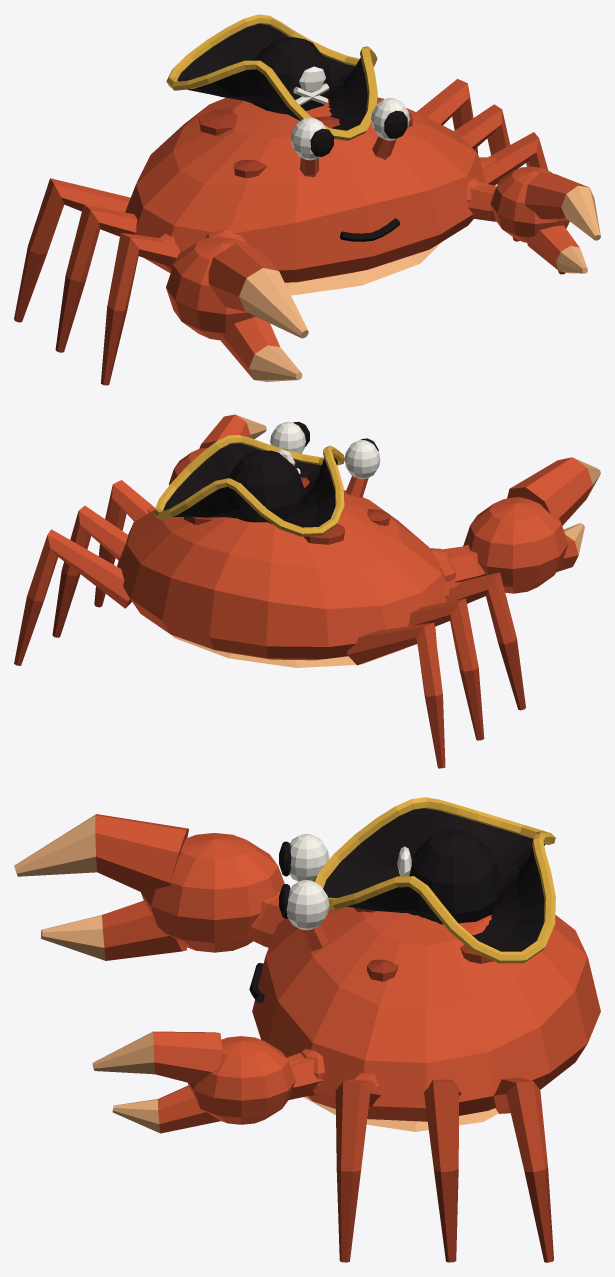
Rendered from captain_pinch.glb.
The picture shows the model from 3 angles, top to bottom: view 1: azimuth 30°, elevation 25°; view 2: azimuth 150°, elevation 25°; view 3: azimuth 270°, elevation 25°; orthographic projection. The views are drawn at different scales.
Visible parts, largest first — view 1: Body, Hat, ClawR, ClawL; view 2: Body, Hat, ClawR, ClawL; view 3: Body, Hat, ClawR, ClawL.
Part boxes in pixels (box(x1,y1,x2,y2)): Body: box(14, 79, 565, 385); Hat: box(166, 14, 377, 140); ClawR: box(166, 229, 308, 381); ClawL: box(466, 166, 600, 273); Body: box(14, 421, 525, 768); Hat: box(153, 435, 344, 536); ClawR: box(431, 457, 600, 593); ClawL: box(169, 414, 266, 485); Body: box(249, 834, 600, 1262); Hat: box(314, 797, 555, 963); ClawR: box(14, 814, 284, 960); ClawL: box(92, 1031, 324, 1133).
Bounding box in the file's own units: 1.16 × 0.6172 × 1.08.
